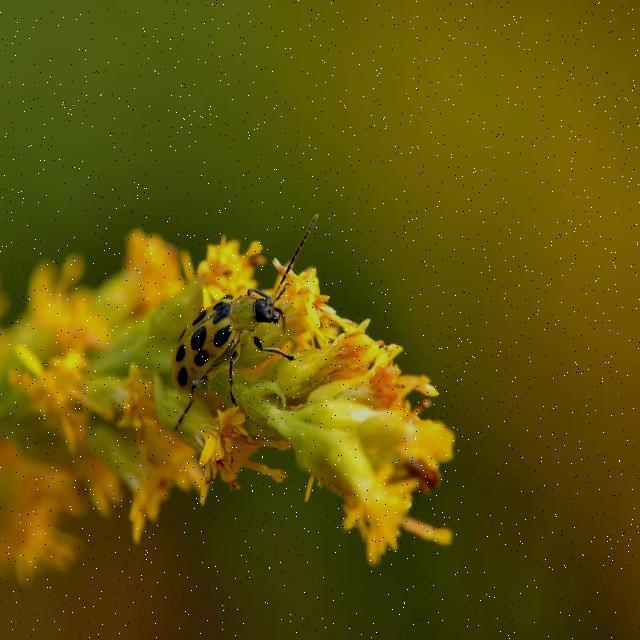gusano_verde: (167, 208, 326, 412)
